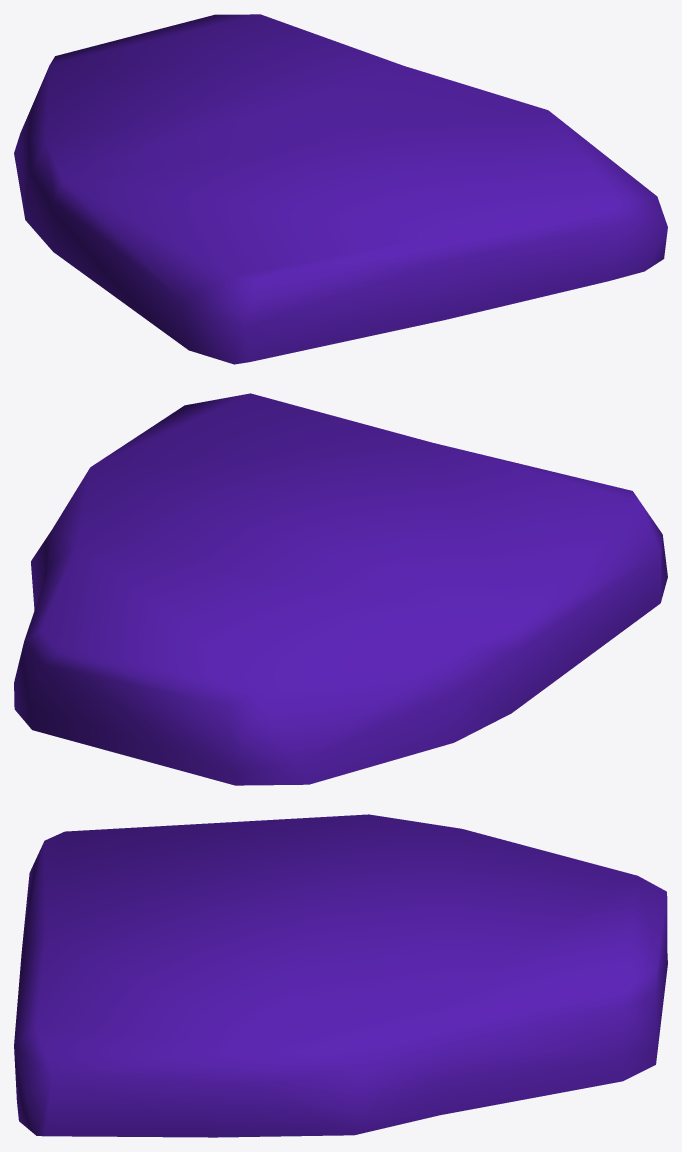
Rendered from flor_stone_02.FBX.
The picture shows the model from 3 angles, top to bottom: view 1: azimuth 30°, elevation 25°; view 2: azimuth 150°, elevation 25°; view 3: azimuth 270°, elevation 25°; orthographic projection. The views are drawn at different scales.
Visible parts, largest first — view 1: flor_stone_02; view 2: flor_stone_02; view 3: flor_stone_02.
Part boxes in pixels (bbox=[...]): flor_stone_02: bbox=[14, 14, 667, 364]; flor_stone_02: bbox=[14, 393, 667, 785]; flor_stone_02: bbox=[14, 814, 667, 1137].
Size of the model in its own units: 14.28 by 2.4 by 16.28.
